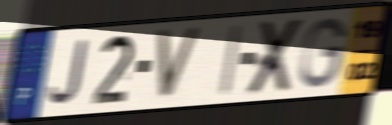2: (92, 32, 135, 107)
G: (298, 16, 349, 91)
I: (217, 22, 245, 98)
J: (46, 37, 89, 107)
V: (155, 26, 203, 103)
X: (243, 16, 308, 99)
